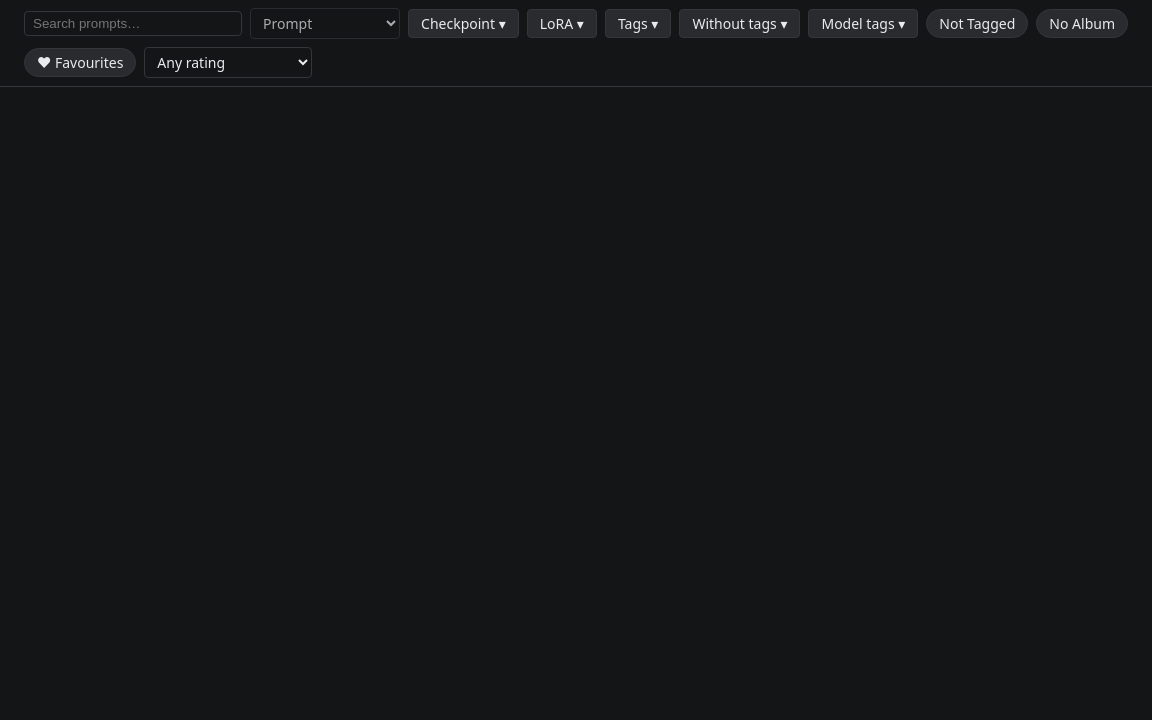
Test: FilterBar › says the pickers could not load instead of showing an empty list
This screenshot has width=1152, height=720.
Click the button "Checkpoint ▾" at coordinates (463, 24), box 408,9 -> 519,38
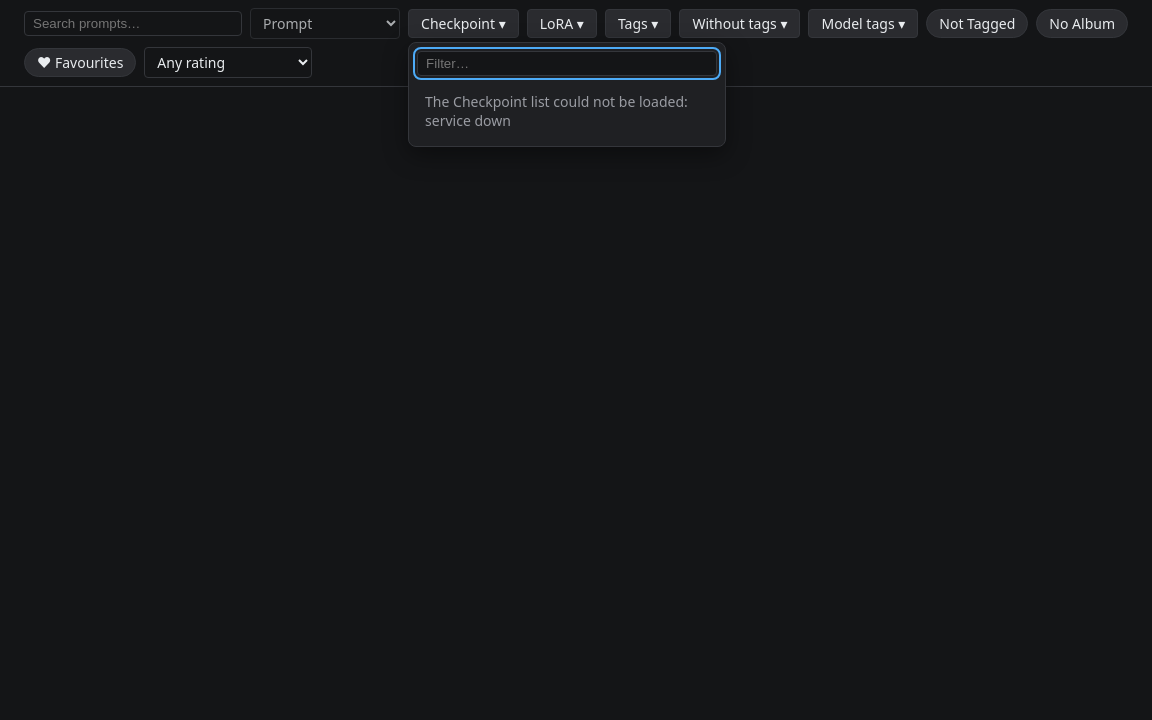
Expected: the message shows "could not be loaded: service down", 425,92 -> 688,130
